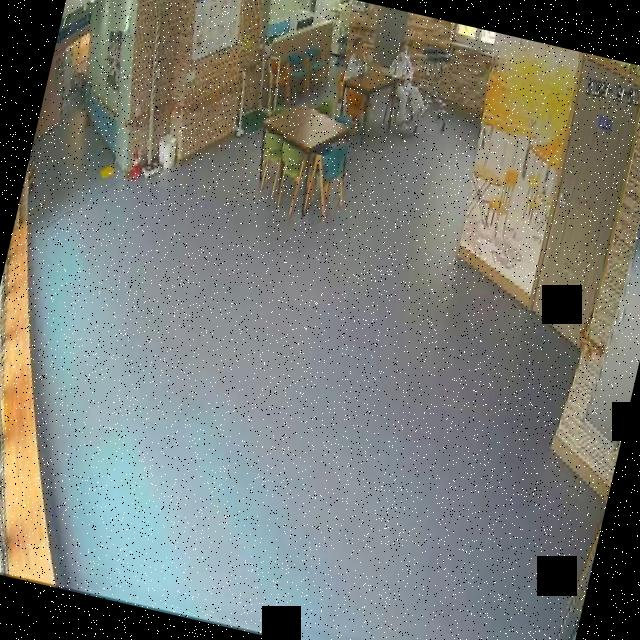patient: (376, 42, 436, 136), (340, 36, 376, 90)
sit: (376, 44, 436, 136)
